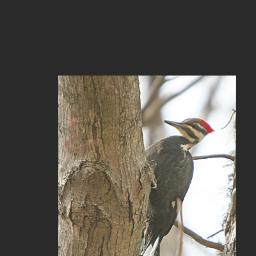Woodpecker: (136, 117, 215, 256)
